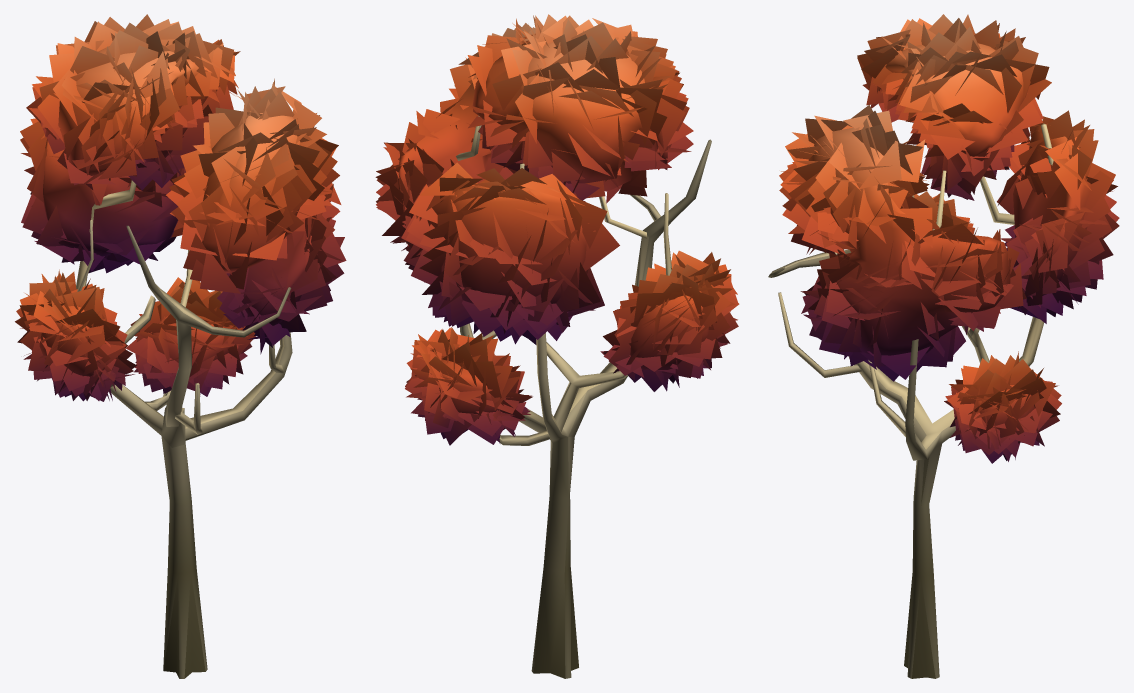
File: Forest_Tree_7C.fbx
3 renders of one model, left to right at view 1: azimuth 30°, elevation 25°; view 2: azimuth 150°, elevation 25°; view 3: azimuth 270°, elevation 25°, orthographic. The views are drawn at different scales.
Visible parts, largest first — view 1: Forest_Tree_7C; view 2: Forest_Tree_7C; view 3: Forest_Tree_7C.
Part boxes in pixels (x1=…): Forest_Tree_7C: x1=15, y1=14, x2=346, y2=678; Forest_Tree_7C: x1=375, y1=14, x2=739, y2=678; Forest_Tree_7C: x1=768, y1=14, x2=1119, y2=678.
Size of the model in its own units: 399 by 771 by 391.
